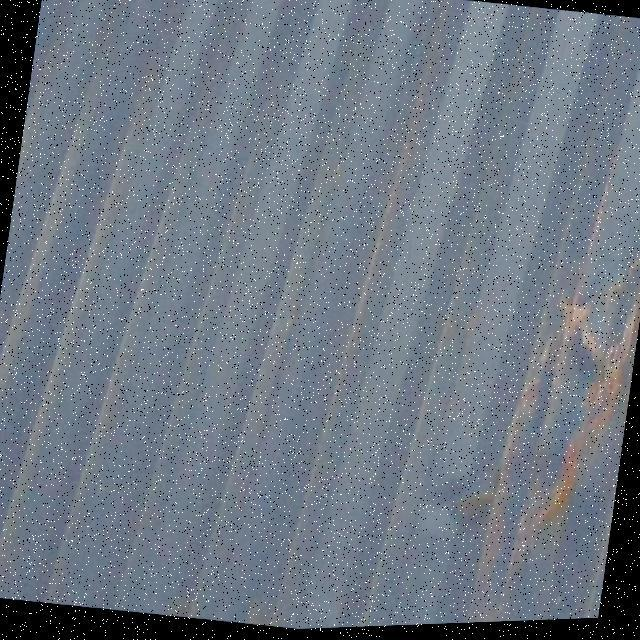rust: (406, 199, 640, 583)
